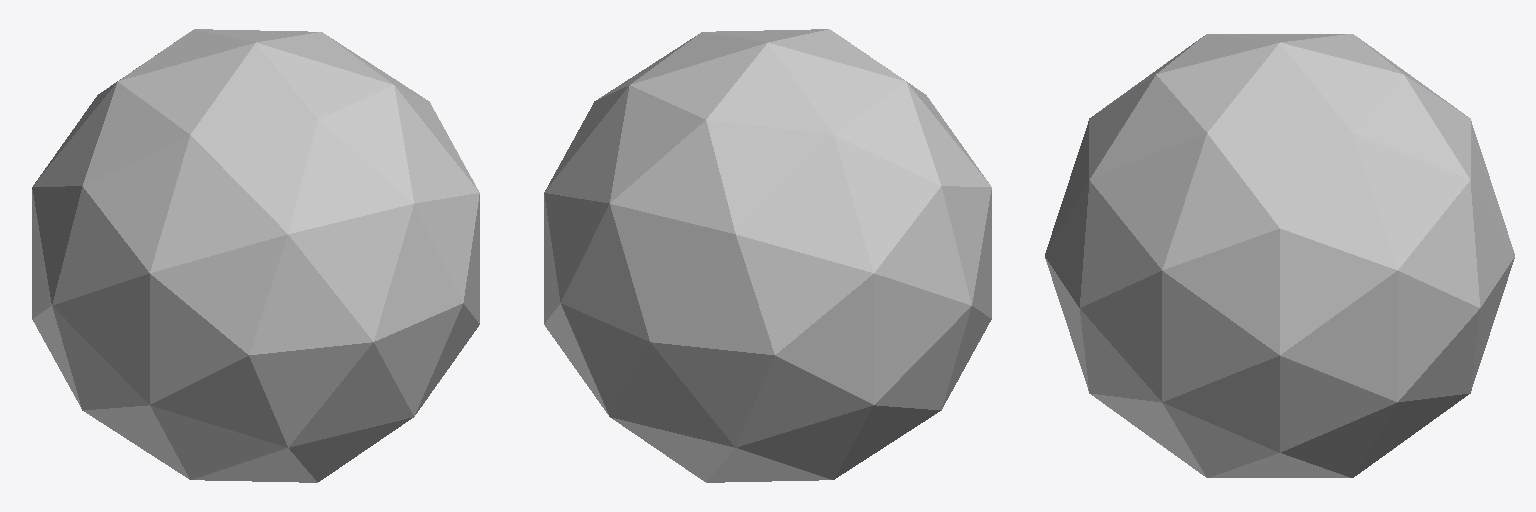
Rendered from hedron.obj.
The picture shows the model from 3 angles: view 1: azimuth 30°, elevation 25°; view 2: azimuth 150°, elevation 25°; view 3: azimuth 270°, elevation 25°; orthographic projection.
Visible parts, largest first — view 1: 000_Polyhedron_-_baked; view 2: 000_Polyhedron_-_baked; view 3: 000_Polyhedron_-_baked.
Boxes of the visible parts, box(x1,y1,x2,y2) form: 000_Polyhedron_-_baked: box(32, 29, 479, 482); 000_Polyhedron_-_baked: box(544, 29, 991, 482); 000_Polyhedron_-_baked: box(1045, 34, 1514, 477).
Size of the model in its own units: 57.57 by 57.57 by 57.57.